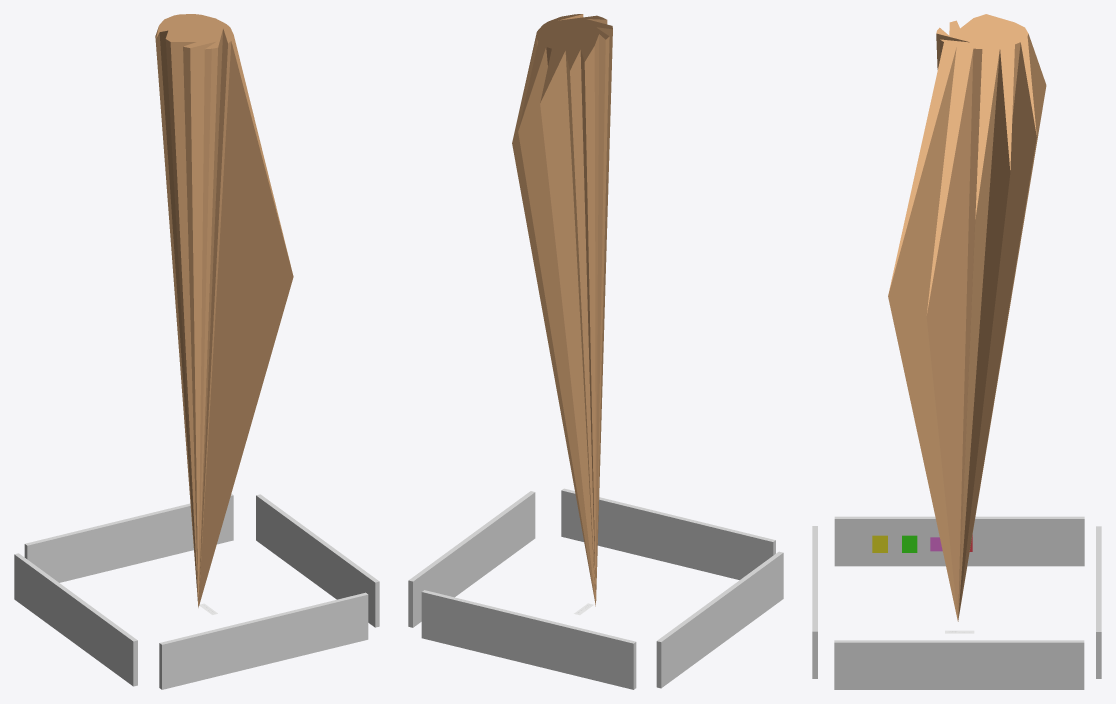
File: museu.glb
3 views of the same model, side by side, from view 1: azimuth 30°, elevation 25°; view 2: azimuth 150°, elevation 25°; view 3: azimuth 270°, elevation 25° (orthographic). The views are drawn at different scales.
Parts seen in each view (by area): view 1: arestas, parede1, parede2, parede4, parede3; view 2: arestas, parede2, parede1, parede4, parede3; view 3: arestas, parede3, parede4, parede1, parede2.
Part boxes in pixels (<box>): arestas: <box>155,14,293,607</box>; parede1: <box>159,592,368,689</box>; parede2: <box>24,494,233,582</box>; parede4: <box>14,553,137,686</box>; parede3: <box>256,494,379,627</box>; arestas: <box>512,14,612,606</box>; parede2: <box>421,590,636,689</box>; parede1: <box>561,488,775,579</box>; parede4: <box>656,551,783,688</box>; parede3: <box>408,491,535,627</box>; arestas: <box>888,14,1046,621</box>; parede3: <box>834,640,1084,689</box>; parede4: <box>834,516,1084,566</box>; parede1: <box>812,526,817,678</box>; parede2: <box>1096,526,1101,678</box>.
Bounding box in the file's own units: 13.21 × 29.58 × 12.81.
